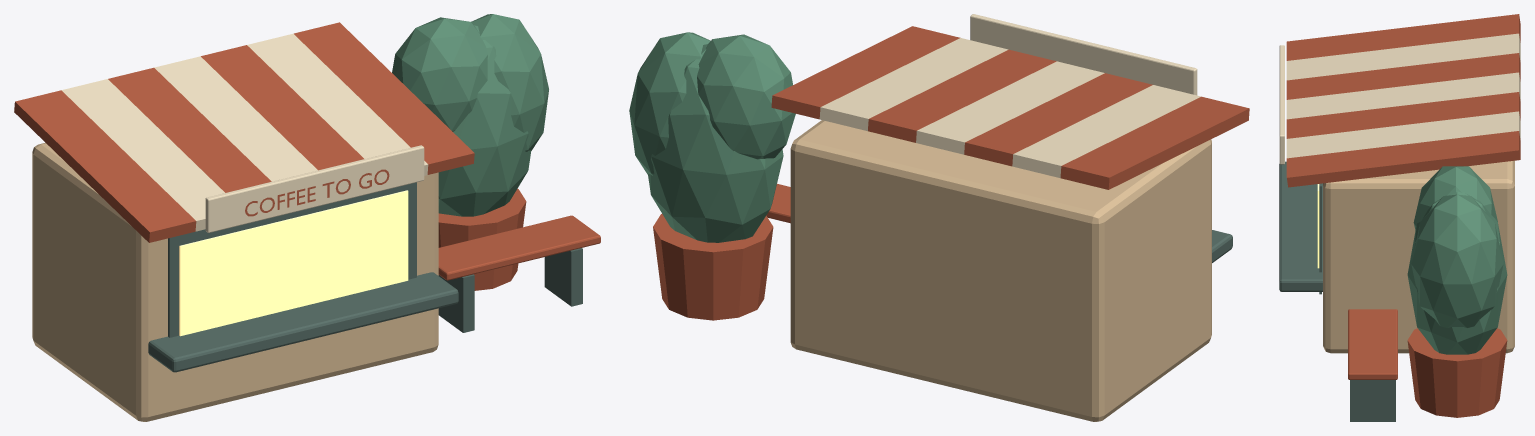
The model's file is tpe3_low_market_7m.glb.
3 views of the same model, side by side, from view 1: azimuth 30°, elevation 25°; view 2: azimuth 150°, elevation 25°; view 3: azimuth 270°, elevation 25° (orthographic). The views are drawn at different scales.
Parts seen in each view (by area): view 1: tpe3_low_market_7m__tpe3-terracotta, tpe3_low_market_7m__tpe3-plaster-cream, tpe3_low_market_7m__tpe3-ivory, tpe3_low_market_7m__tpe3-emissive-warm, tpe3_low_market_7m__tpe3-sage, tpe3_low_market_7m__tpe3-dark-timber; view 2: tpe3_low_market_7m__tpe3-plaster-cream, tpe3_low_market_7m__tpe3-terracotta, tpe3_low_market_7m__tpe3-sage, tpe3_low_market_7m__tpe3-ivory; view 3: tpe3_low_market_7m__tpe3-terracotta, tpe3_low_market_7m__tpe3-plaster-cream, tpe3_low_market_7m__tpe3-ivory, tpe3_low_market_7m__tpe3-sage, tpe3_low_market_7m__tpe3-dark-timber, tpe3_low_market_7m__tpe3-emissive-warm.
Boxes of the visible parts, bbox=[...] form: tpe3_low_market_7m__tpe3-terracotta: bbox=[14, 22, 600, 290]; tpe3_low_market_7m__tpe3-plaster-cream: bbox=[32, 142, 438, 421]; tpe3_low_market_7m__tpe3-ivory: bbox=[61, 33, 428, 232]; tpe3_low_market_7m__tpe3-emissive-warm: bbox=[179, 190, 408, 336]; tpe3_low_market_7m__tpe3-sage: bbox=[392, 14, 548, 216]; tpe3_low_market_7m__tpe3-dark-timber: bbox=[148, 182, 582, 372]; tpe3_low_market_7m__tpe3-plaster-cream: bbox=[790, 120, 1211, 421]; tpe3_low_market_7m__tpe3-terracotta: bbox=[653, 26, 1249, 320]; tpe3_low_market_7m__tpe3-sage: bbox=[629, 32, 795, 242]; tpe3_low_market_7m__tpe3-ivory: bbox=[819, 14, 1200, 178]; tpe3_low_market_7m__tpe3-terracotta: bbox=[1286, 14, 1520, 417]; tpe3_low_market_7m__tpe3-plaster-cream: bbox=[1323, 160, 1514, 353]; tpe3_low_market_7m__tpe3-ivory: bbox=[1279, 33, 1520, 164]; tpe3_low_market_7m__tpe3-sage: bbox=[1407, 166, 1507, 354]; tpe3_low_market_7m__tpe3-dark-timber: bbox=[1279, 161, 1395, 421]; tpe3_low_market_7m__tpe3-emissive-warm: bbox=[1317, 184, 1319, 268].
Size of the model in its own units: 6.34 by 3.2 by 3.15.
